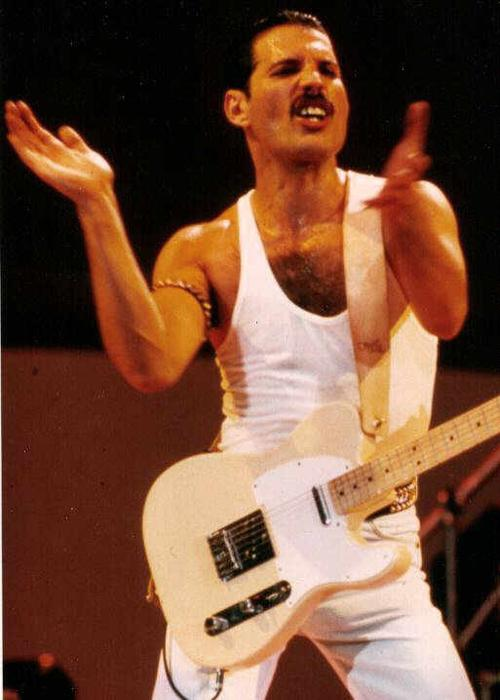person: (1, 10, 482, 699)
